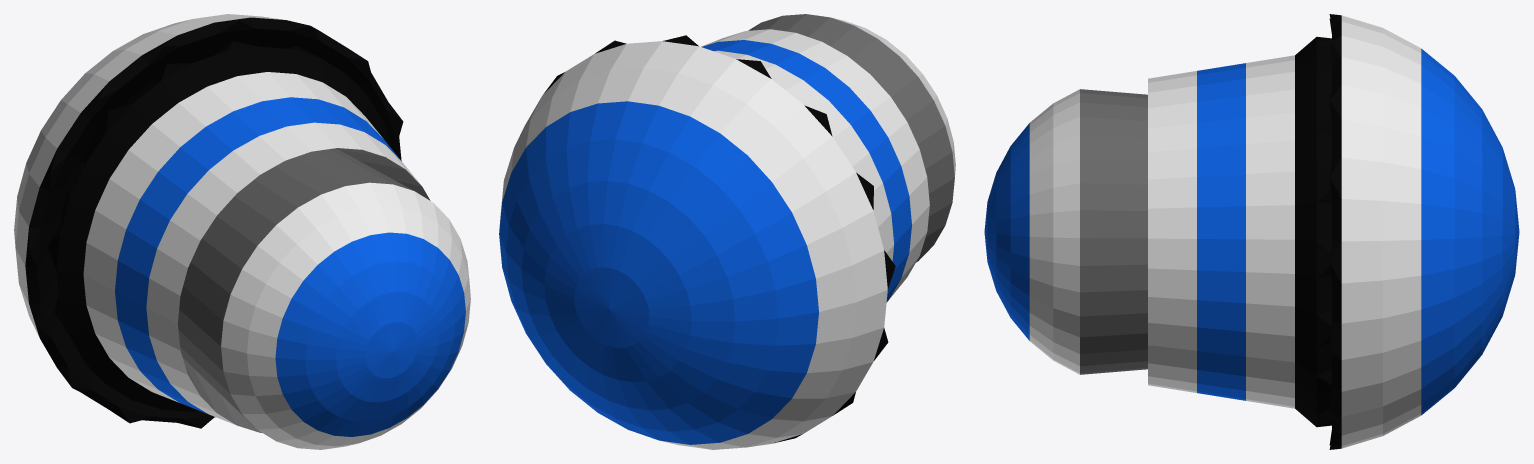
The model's file is Tower Forte A.fbx.
3 renders of one model, left to right at view 1: azimuth 30°, elevation 25°; view 2: azimuth 150°, elevation 25°; view 3: azimuth 270°, elevation 25°, orthographic.
Parts seen in each view (by area): view 1: Cube; view 2: Cube; view 3: Cube.
Boxes of the visible parts, box(x1,y1,x2,y2) form: Cube: box(14, 14, 470, 449); Cube: box(499, 14, 955, 449); Cube: box(984, 14, 1519, 449).
Bounding box in the file's own units: 198 × 198 × 242.
